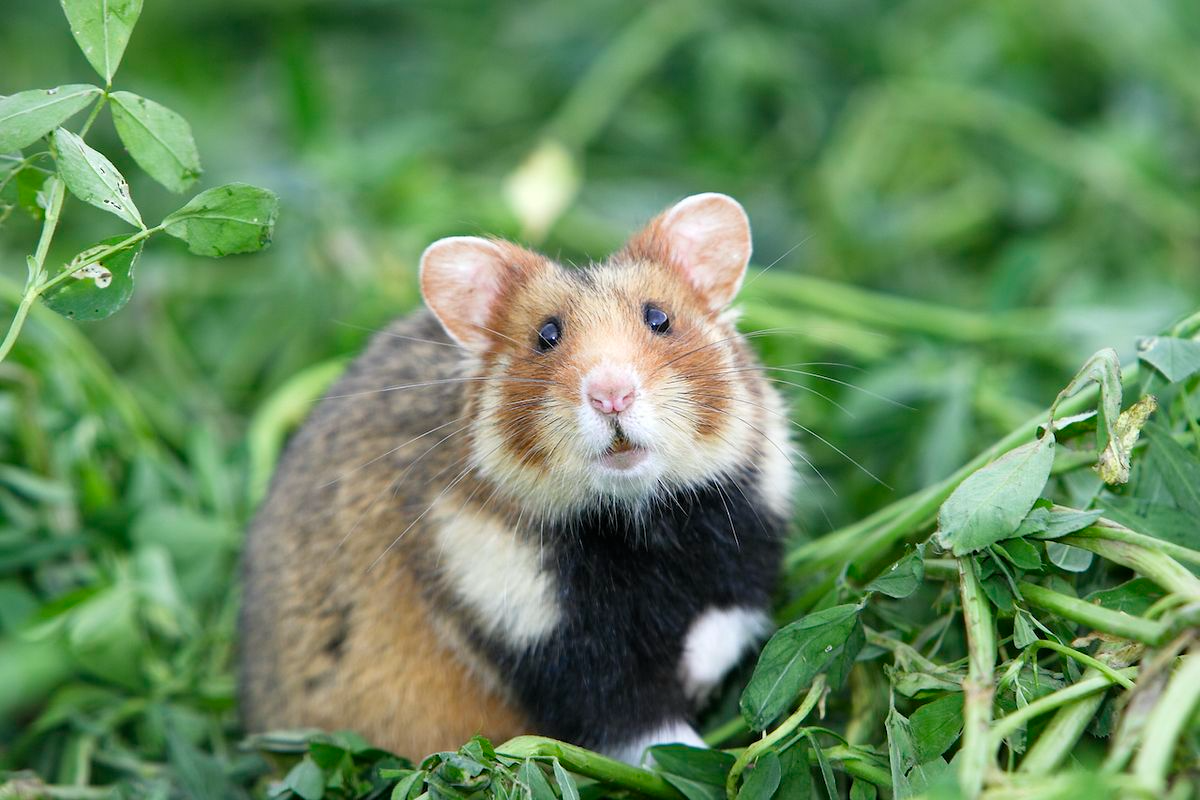hamester: (287, 189, 779, 749)
